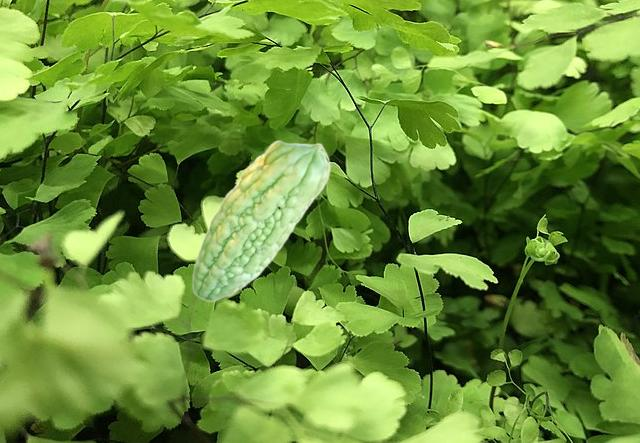ampalaya: (191, 139, 333, 303)
